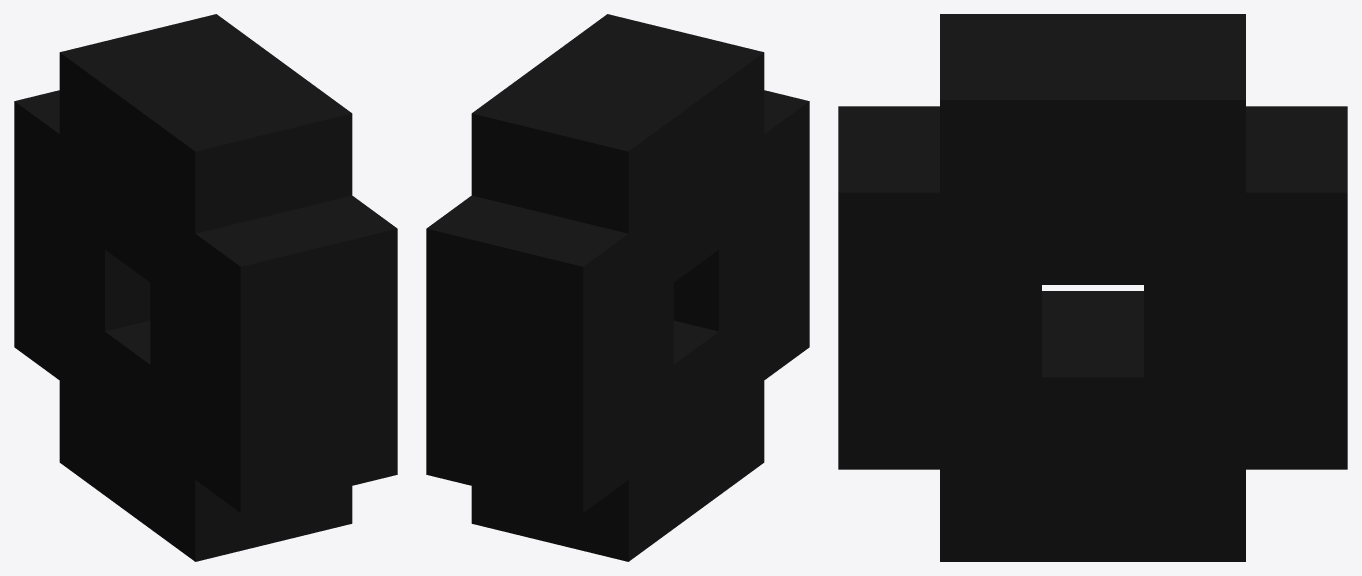
The model's file is Auto1_llanta.obj.
3 renders of one model, left to right at view 1: azimuth 30°, elevation 25°; view 2: azimuth 150°, elevation 25°; view 3: azimuth 270°, elevation 25°, orthographic. The views are drawn at different scales.
Parts seen in each view (by area): view 1: Auto1_llanta; view 2: Auto1_llanta; view 3: Auto1_llanta.
Boxes of the visible parts, x1=… form: Auto1_llanta: x1=14, y1=14, x2=397, y2=561; Auto1_llanta: x1=426, y1=14, x2=809, y2=561; Auto1_llanta: x1=838, y1=14, x2=1347, y2=561.
Size of the model in its own units: 0.4 by 1 by 1.
Materials: 1 (1 with a texture image).
